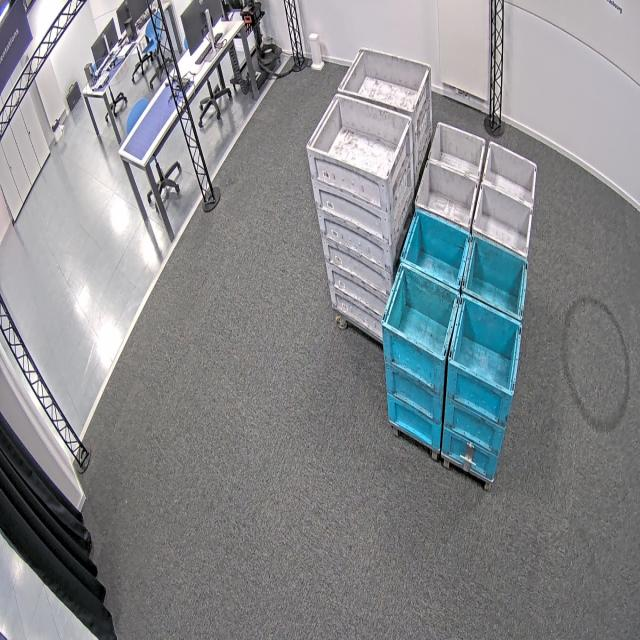Roll3G: (305, 92, 416, 188), (335, 42, 434, 116)
Roll8G: (469, 135, 541, 261), (412, 120, 487, 232)
RollB8: (381, 204, 473, 364), (445, 230, 529, 403)
